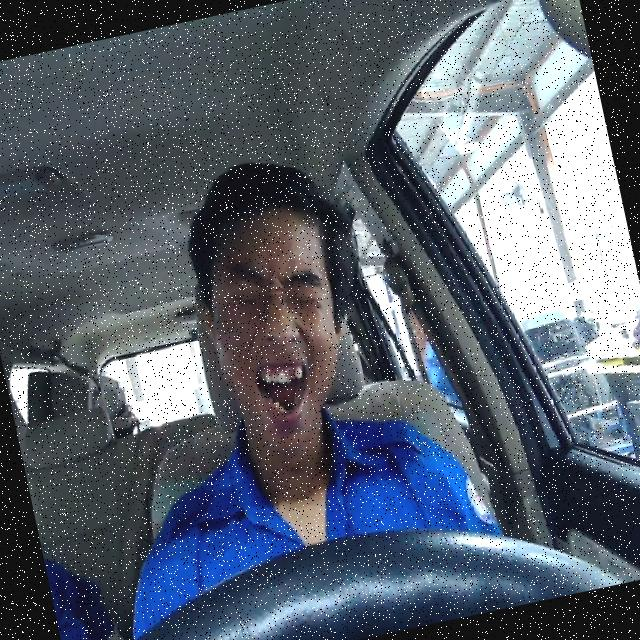yarning: (180, 195, 360, 462)
